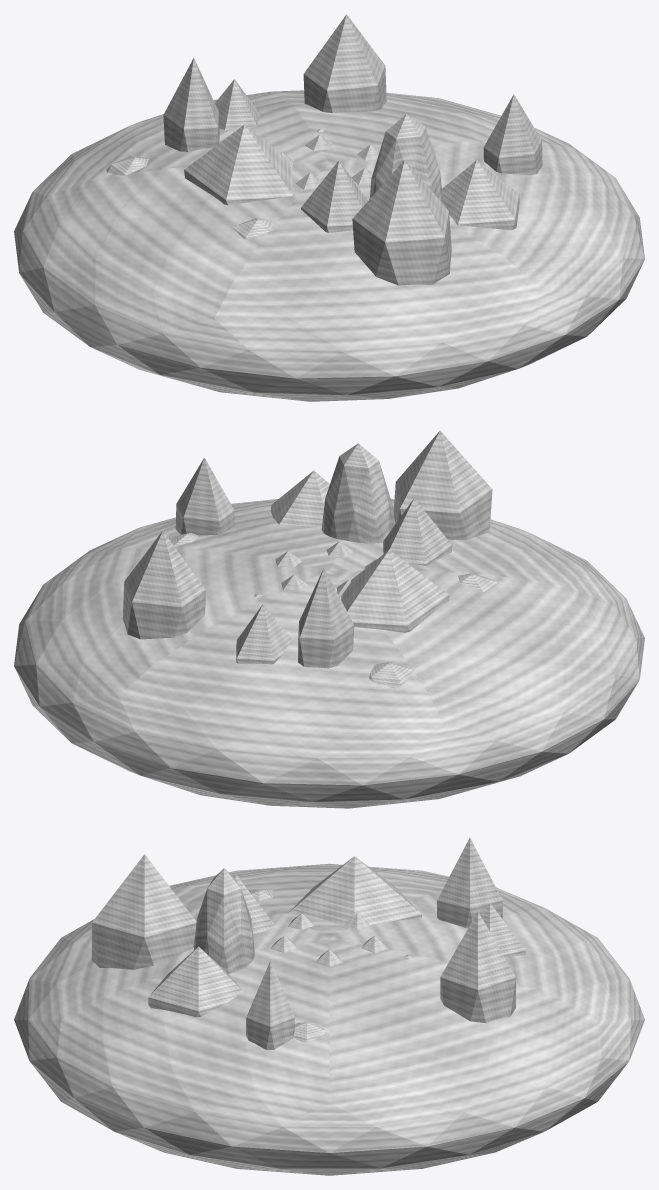
Rendered from sulfur_node_variant_d.glb.
3 renders of one model, top to bottom at view 1: azimuth 30°, elevation 25°; view 2: azimuth 150°, elevation 25°; view 3: azimuth 270°, elevation 25°, orthographic.
Visible parts, largest first — view 1: Resource node bedrock.003, Exposed ore formation.045, Exposed ore formation.036, Exposed ore formation.041, Exposed ore formation.047, Exposed ore formation.039, Exposed ore formation.046, Exposed ore formation, Exposed ore formation.044, Exposed ore formation.038, Exposed ore formation.043, Exposed ore formation.040; view 2: Resource node bedrock.003, Exposed ore formation.045, Exposed ore formation.036, Exposed ore formation.041, Exposed ore formation.046, Exposed ore formation.039, Exposed ore formation, Exposed ore formation.044, Exposed ore formation.047, Exposed ore formation.038, Exposed ore formation.040; view 3: Resource node bedrock.003, Exposed ore formation.045, Exposed ore formation.036, Exposed ore formation.041, Exposed ore formation.046, Exposed ore formation.047, Exposed ore formation.039, Exposed ore formation, Exposed ore formation.038, Exposed ore formation.044, Exposed ore formation.034.
Boxes of the visible parts, x1,y1,x2,y2 form: Resource node bedrock.003: [14, 90, 644, 401]; Exposed ore formation.045: [352, 160, 451, 285]; Exposed ore formation.036: [303, 14, 386, 112]; Exposed ore formation.041: [184, 124, 292, 205]; Exposed ore formation.047: [442, 160, 519, 230]; Exposed ore formation.039: [163, 58, 219, 151]; Exposed ore formation.046: [369, 114, 442, 202]; Exposed ore formation: [483, 94, 542, 175]; Exposed ore formation.044: [301, 160, 367, 232]; Exposed ore formation.038: [215, 79, 260, 129]; Exposed ore formation.043: [232, 218, 272, 239]; Exposed ore formation.040: [106, 155, 148, 175]; Resource node bedrock.003: [14, 498, 644, 808]; Exposed ore formation.045: [393, 430, 492, 539]; Exposed ore formation.036: [122, 530, 205, 639]; Exposed ore formation.041: [341, 550, 449, 632]; Exposed ore formation.046: [321, 443, 394, 543]; Exposed ore formation.039: [298, 568, 354, 668]; Exposed ore formation: [175, 457, 234, 535]; Exposed ore formation.044: [383, 498, 452, 565]; Exposed ore formation.047: [271, 470, 329, 526]; Exposed ore formation.038: [236, 604, 292, 664]; Exposed ore formation.040: [369, 661, 413, 688]; Resource node bedrock.003: [14, 863, 644, 1175]; Exposed ore formation.045: [92, 854, 196, 969]; Exposed ore formation.036: [440, 911, 515, 1022]; Exposed ore formation.041: [288, 856, 421, 925]; Exposed ore formation.046: [193, 868, 254, 973]; Exposed ore formation.047: [148, 946, 243, 1017]; Exposed ore formation.039: [437, 837, 502, 928]; Exposed ore formation: [246, 961, 294, 1049]; Exposed ore formation.038: [459, 903, 525, 956]; Exposed ore formation.044: [233, 873, 276, 934]; Exposed ore formation.034: [293, 1022, 326, 1042].
Size of what is drawn, in the model's own units: 6 by 2.56 by 6.
Materials: 2 (2 with a texture image).
